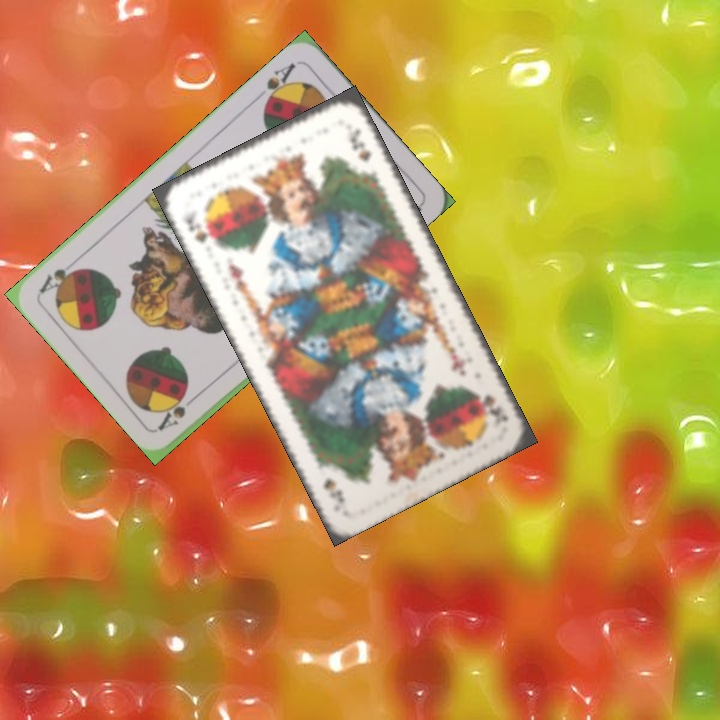SA: (154, 388, 203, 433), (259, 58, 298, 110)
SK: (472, 387, 512, 429), (181, 208, 220, 251)
